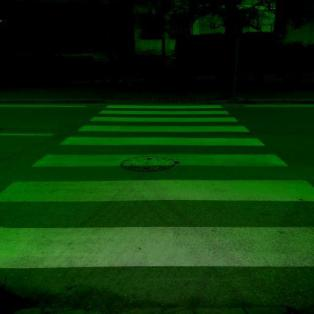Paso de Cebra: (0, 176, 314, 274), (55, 123, 272, 149)
